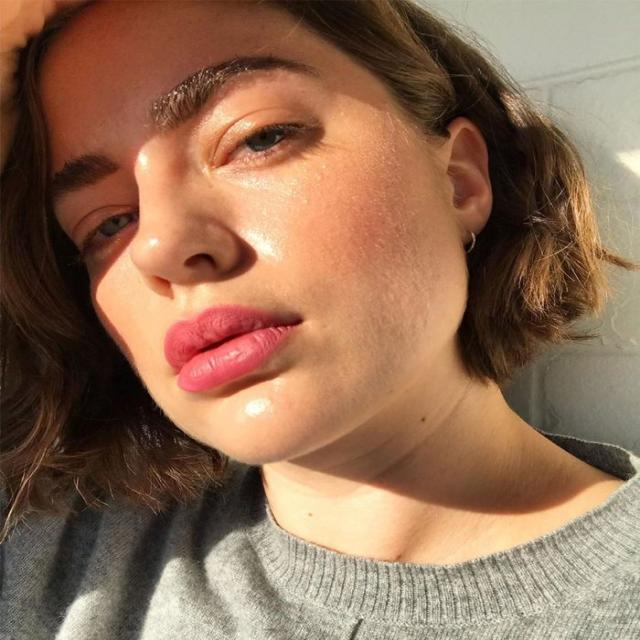Oily-Skin: (102, 58, 232, 175), (289, 135, 450, 220), (136, 174, 230, 298), (225, 377, 333, 438), (340, 274, 514, 302)
